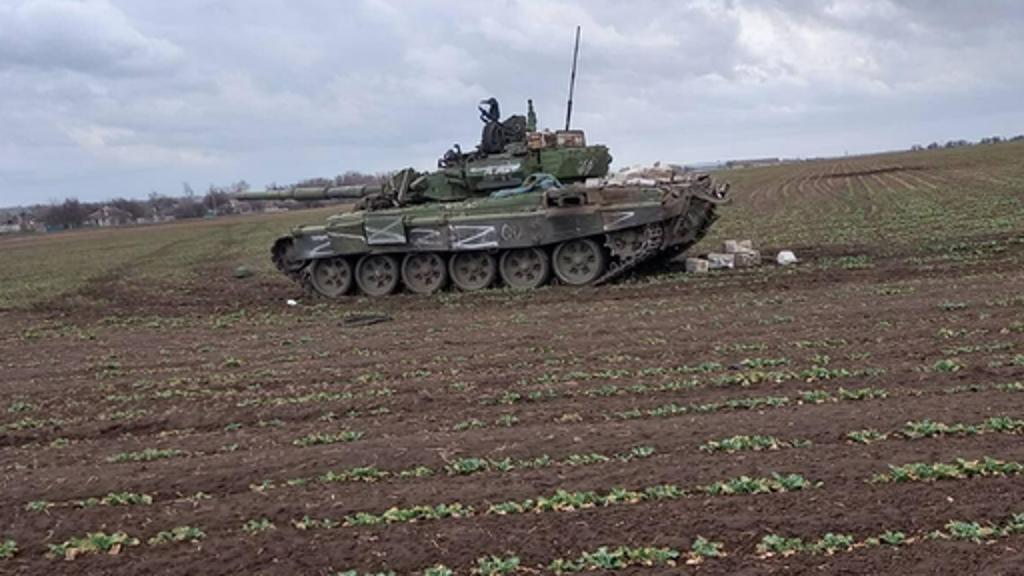TANK: (200, 102, 722, 298)
